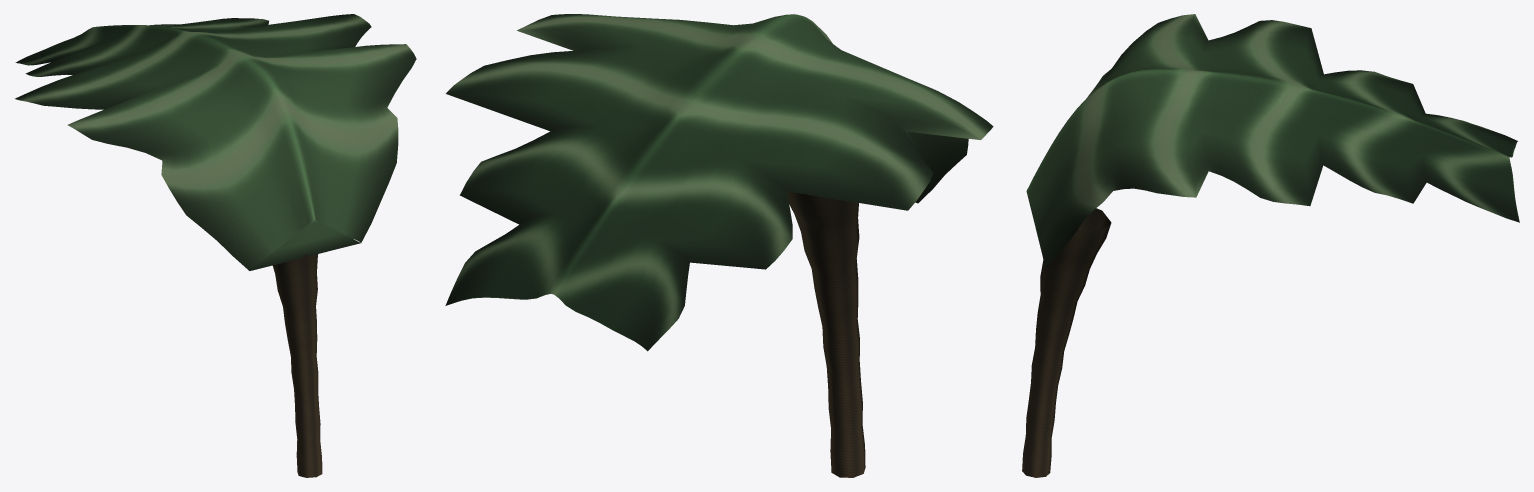
Rendered from Riesenblatt_1.fbx.
3 views of the same model, side by side, from view 1: azimuth 30°, elevation 25°; view 2: azimuth 150°, elevation 25°; view 3: azimuth 270°, elevation 25° (orthographic). The views are drawn at different scales.
Parts seen in each view (by area): view 1: Riesenblatt1; view 2: Riesenblatt1; view 3: Riesenblatt1.
Boxes of the visible parts, x1,y1,x2,y2 form: Riesenblatt1: (15,14,416,477); Riesenblatt1: (445,14,993,477); Riesenblatt1: (1022,14,1519,477).
Bounding box in the file's own units: 1.58 × 1.64 × 1.84.
